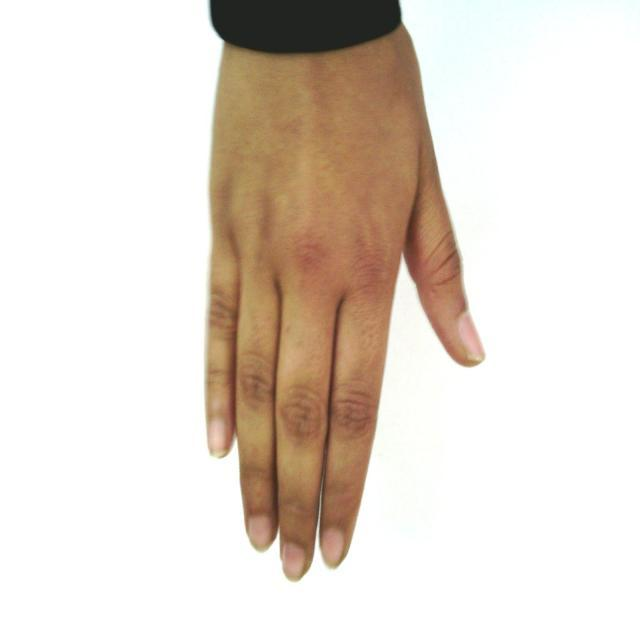Fingernail: (460, 312, 484, 361), (322, 530, 344, 570), (249, 517, 273, 552), (284, 545, 306, 582), (210, 419, 230, 457)
